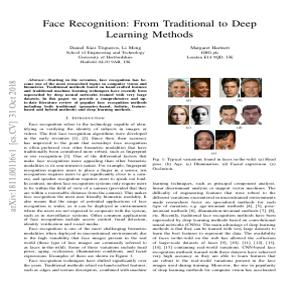image: (155, 76, 280, 153)
text: (22, 78, 150, 276), (152, 154, 276, 281), (40, 15, 264, 38), (64, 42, 146, 67), (179, 44, 236, 61)
